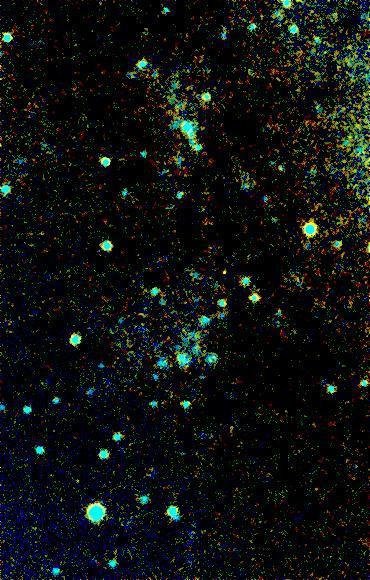star: (211, 257, 241, 287)
